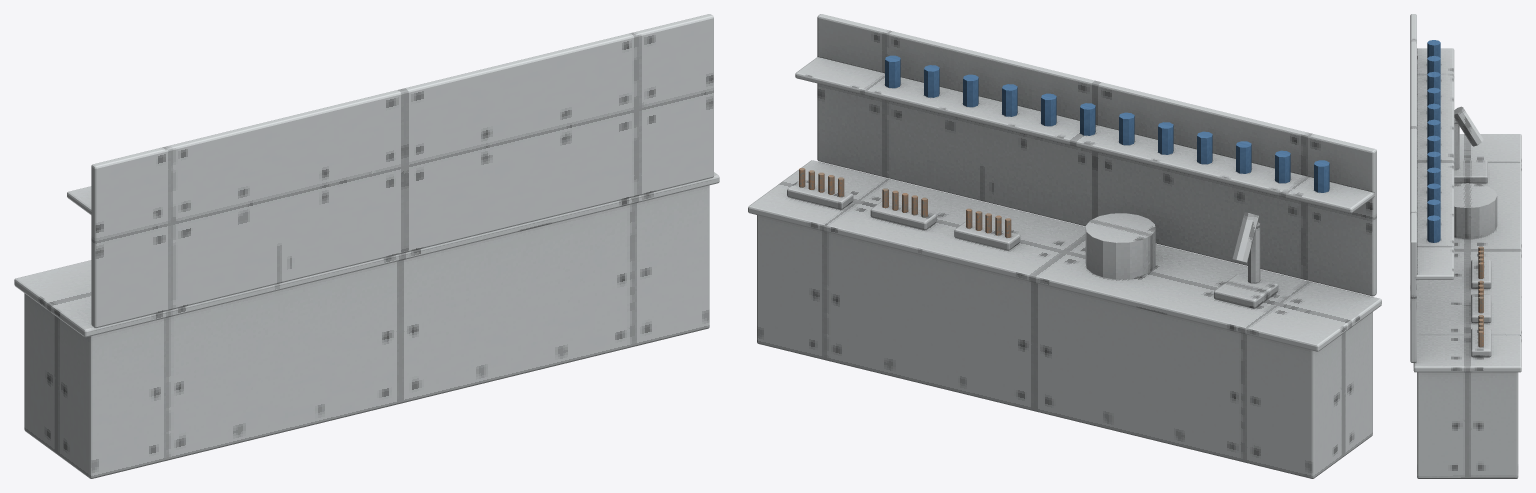
File: base_lab_bench.glb
3 renders of one model, left to right at view 1: azimuth 30°, elevation 25°; view 2: azimuth 150°, elevation 25°; view 3: azimuth 270°, elevation 25°, orthographic. The views are drawn at different scales.
Visible parts, largest first — view 1: base_lab_bench.005; view 2: base_lab_bench.005; view 3: base_lab_bench.005.
Boxes of the visible parts, <box> form: base_lab_bench.005: <box>14,14,719,478</box>; base_lab_bench.005: <box>748,14,1381,478</box>; base_lab_bench.005: <box>1410,14,1521,478</box>.
Size of the model in its own units: 4.1 by 1.95 by 0.825.
Materials: 3 (3 with a texture image).
